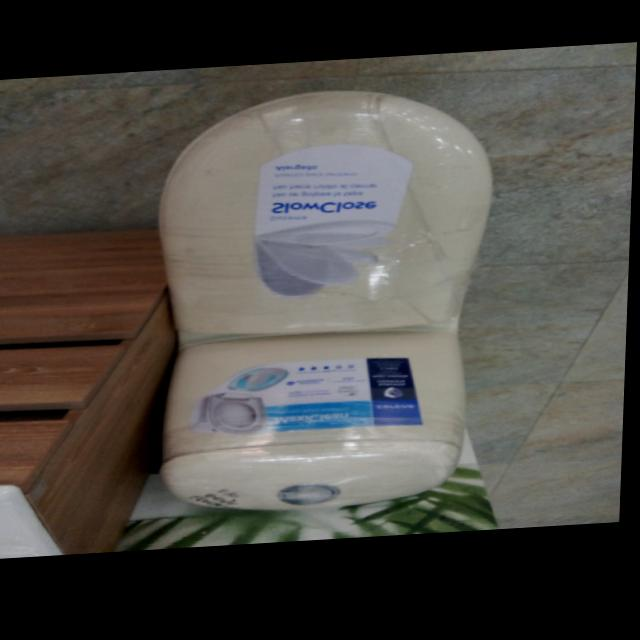toilet: (150, 87, 498, 523)
